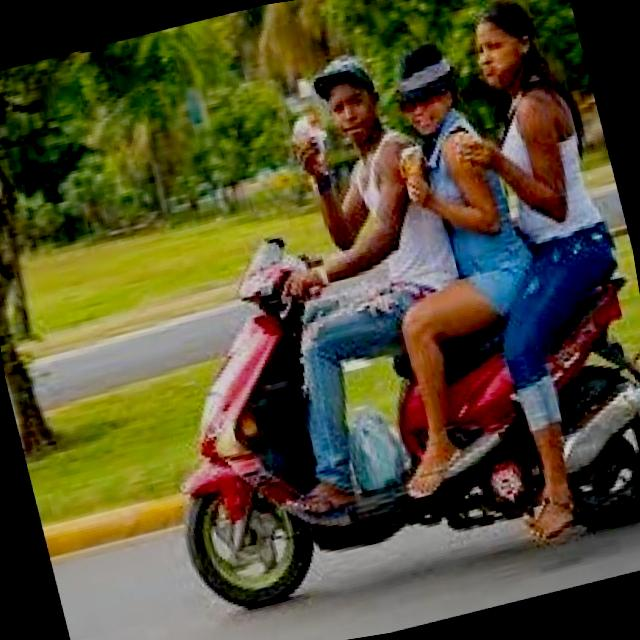motorcycle: (135, 176, 640, 625)
person: (271, 37, 470, 410), (448, 0, 634, 371), (376, 30, 531, 352)
rider_region: (106, 0, 640, 621)
